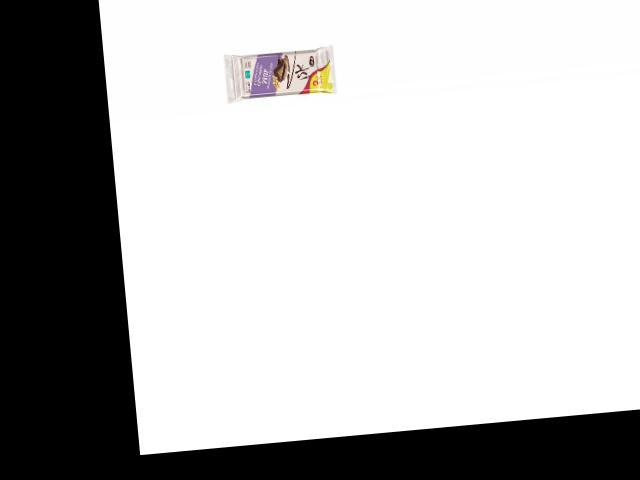chocolate: (222, 40, 340, 106)
